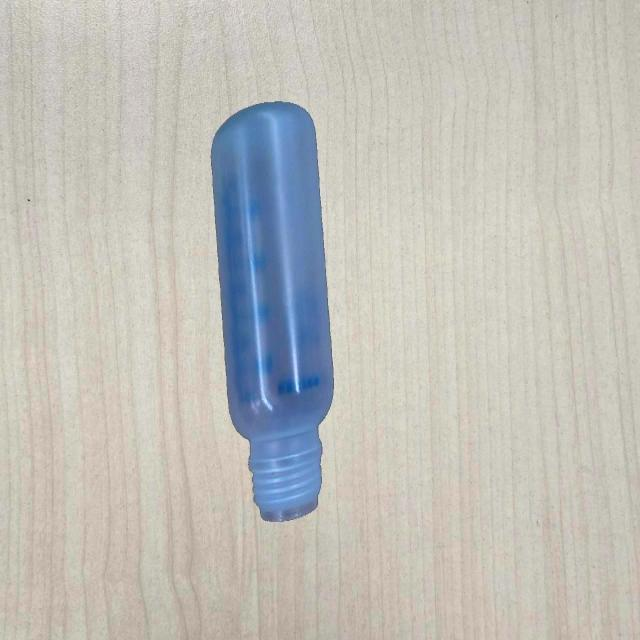bottle: (208, 98, 338, 529)
